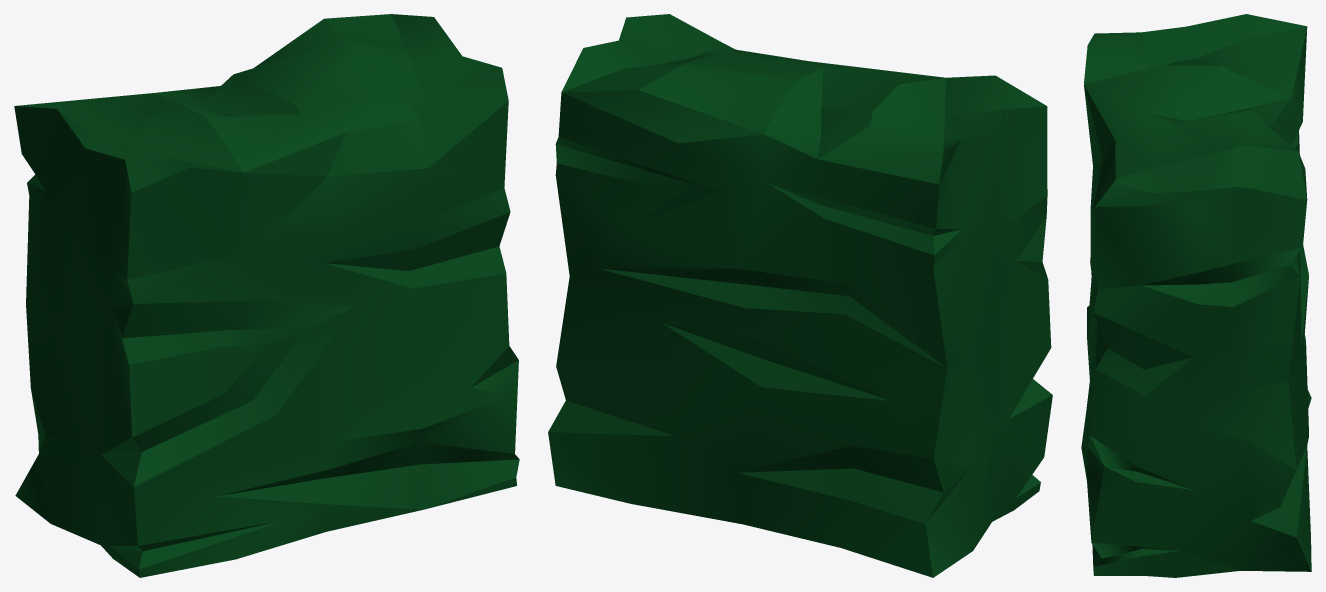
File: Hedge_1.fbx
3 views of the same model, side by side, from view 1: azimuth 30°, elevation 25°; view 2: azimuth 150°, elevation 25°; view 3: azimuth 270°, elevation 25° (orthographic). The views are drawn at different scales.
Visible parts, largest first — view 1: Hedge_1; view 2: Hedge_1; view 3: Hedge_1.
Boxes of the visible parts, <box> form: Hedge_1: <box>14,14,519,577</box>; Hedge_1: <box>548,14,1052,577</box>; Hedge_1: <box>1081,14,1311,577</box>.
Size of the model in its own units: 48.84 by 47.25 by 25.42.
